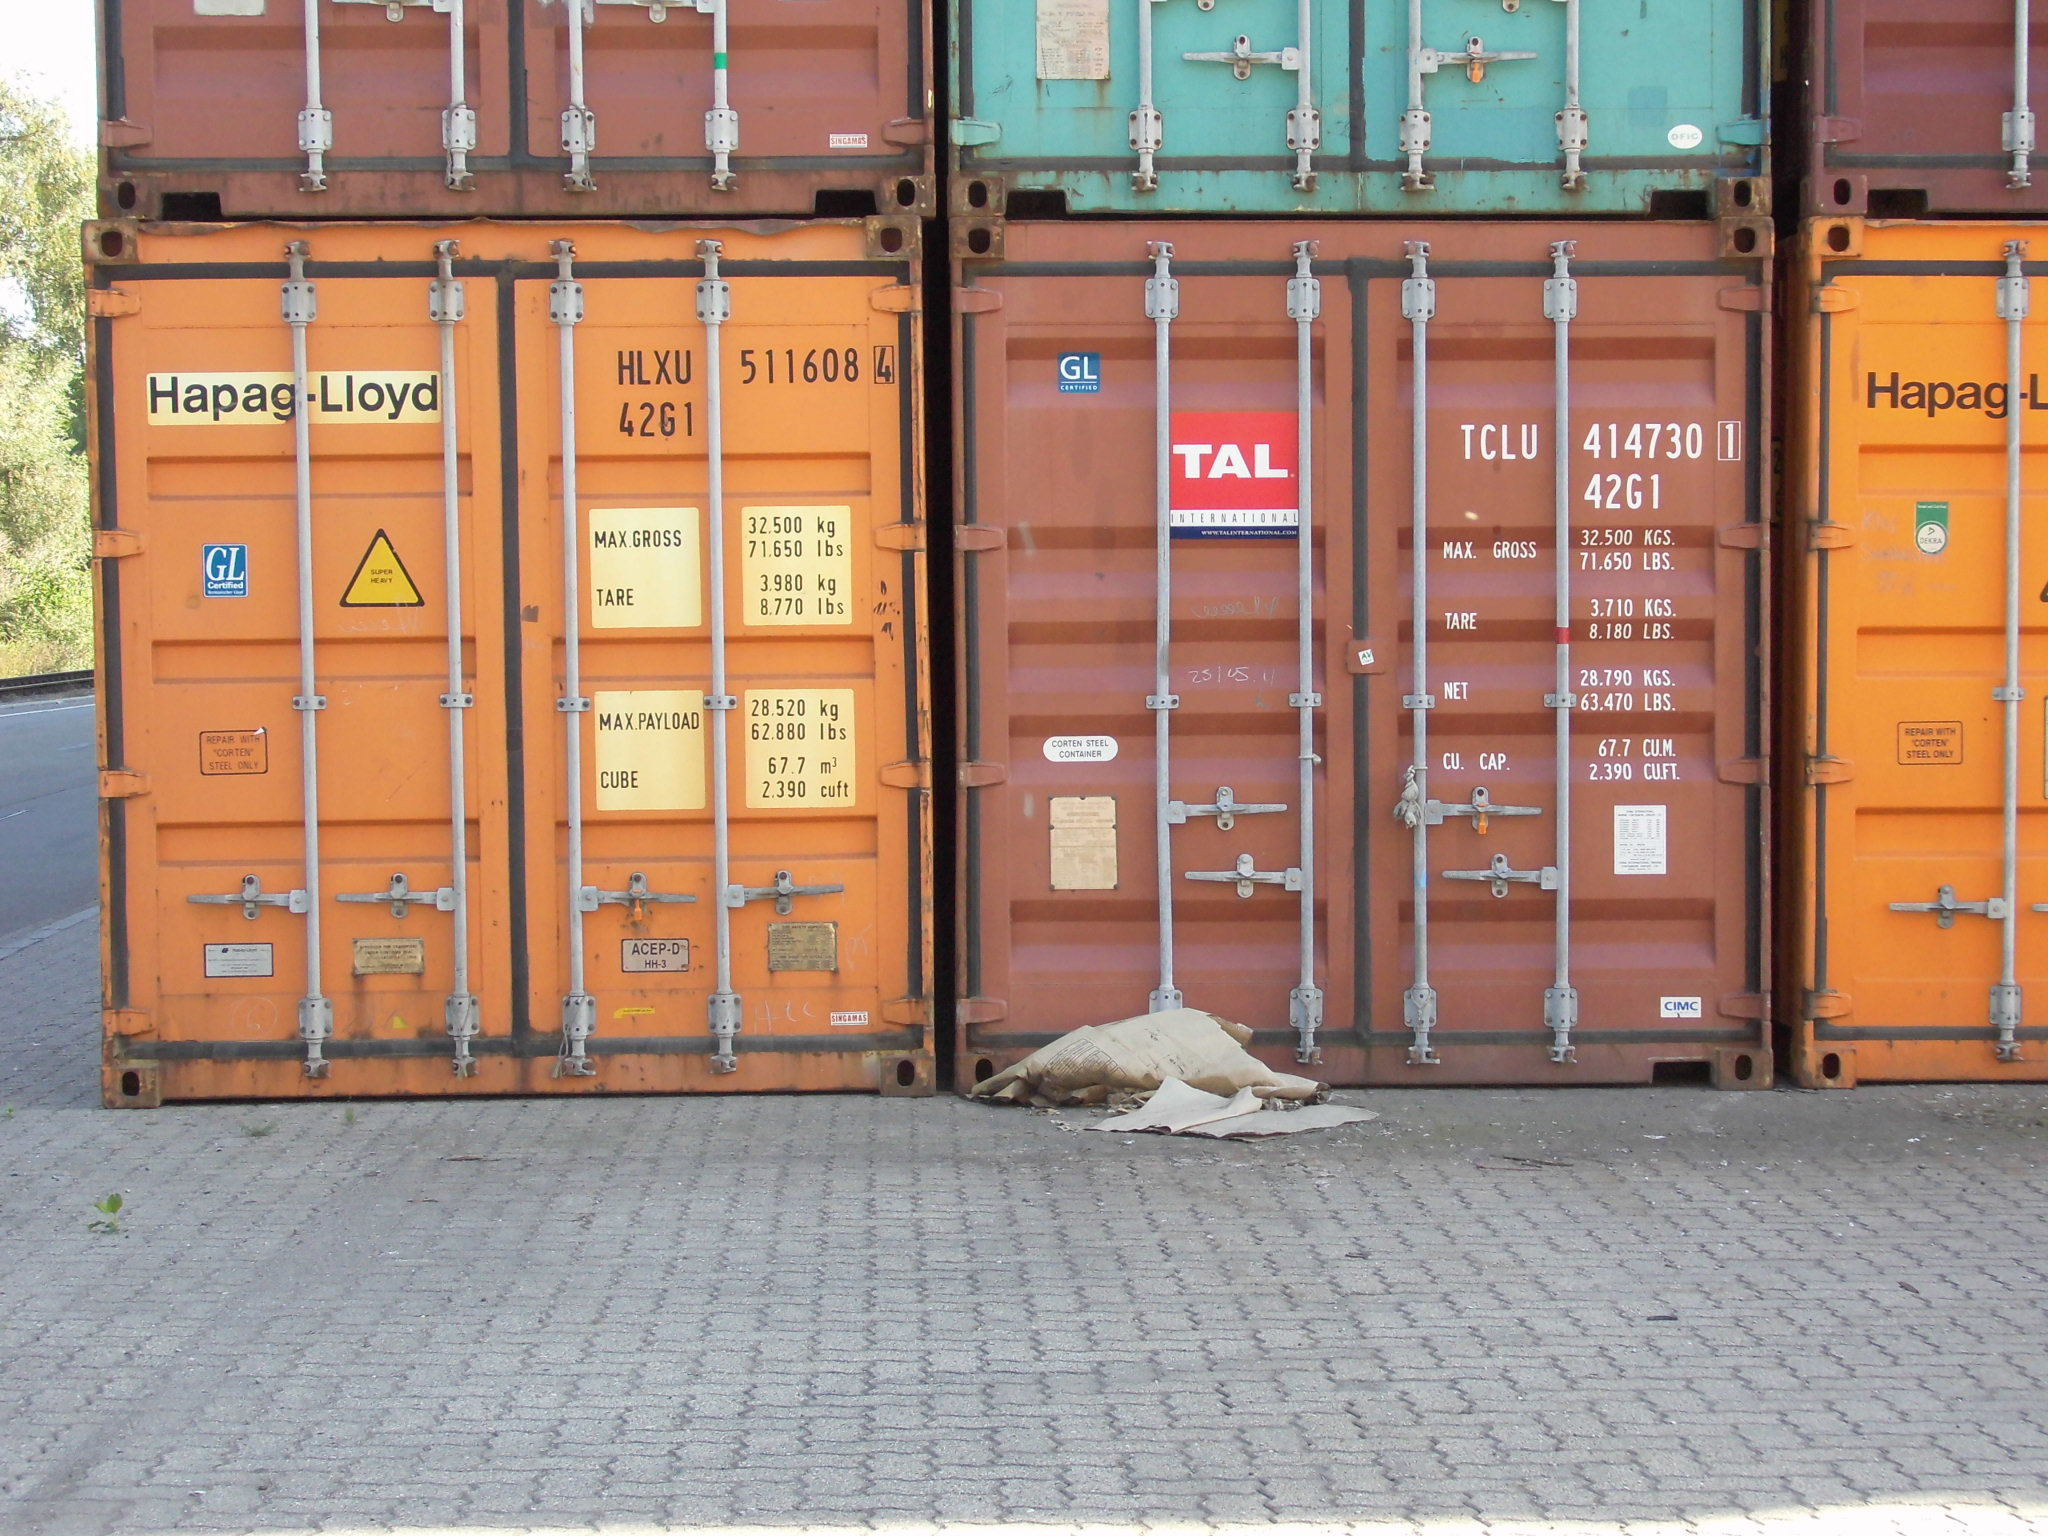container_door: (82, 226, 939, 1112), (940, 207, 1796, 1091)
